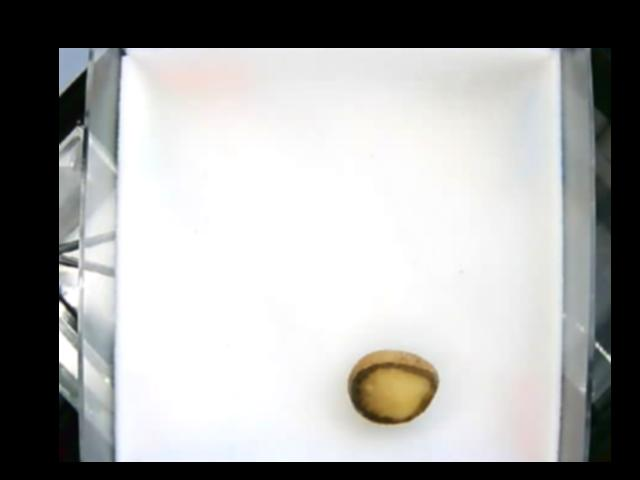Potato: (345, 347, 441, 426)
